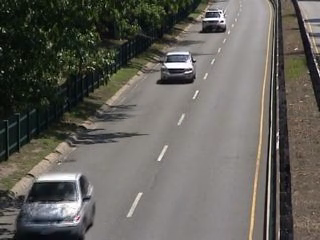car: (12, 170, 104, 240), (158, 47, 199, 83), (201, 8, 229, 33)
